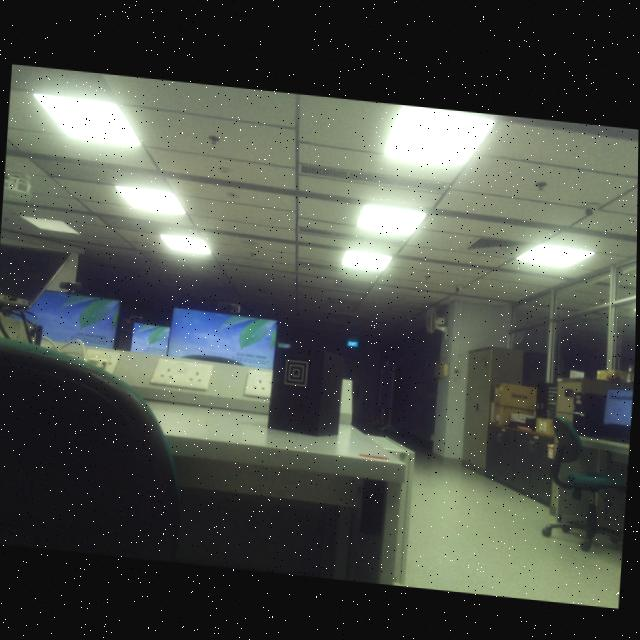BULLSEYE: (286, 357, 310, 384)
